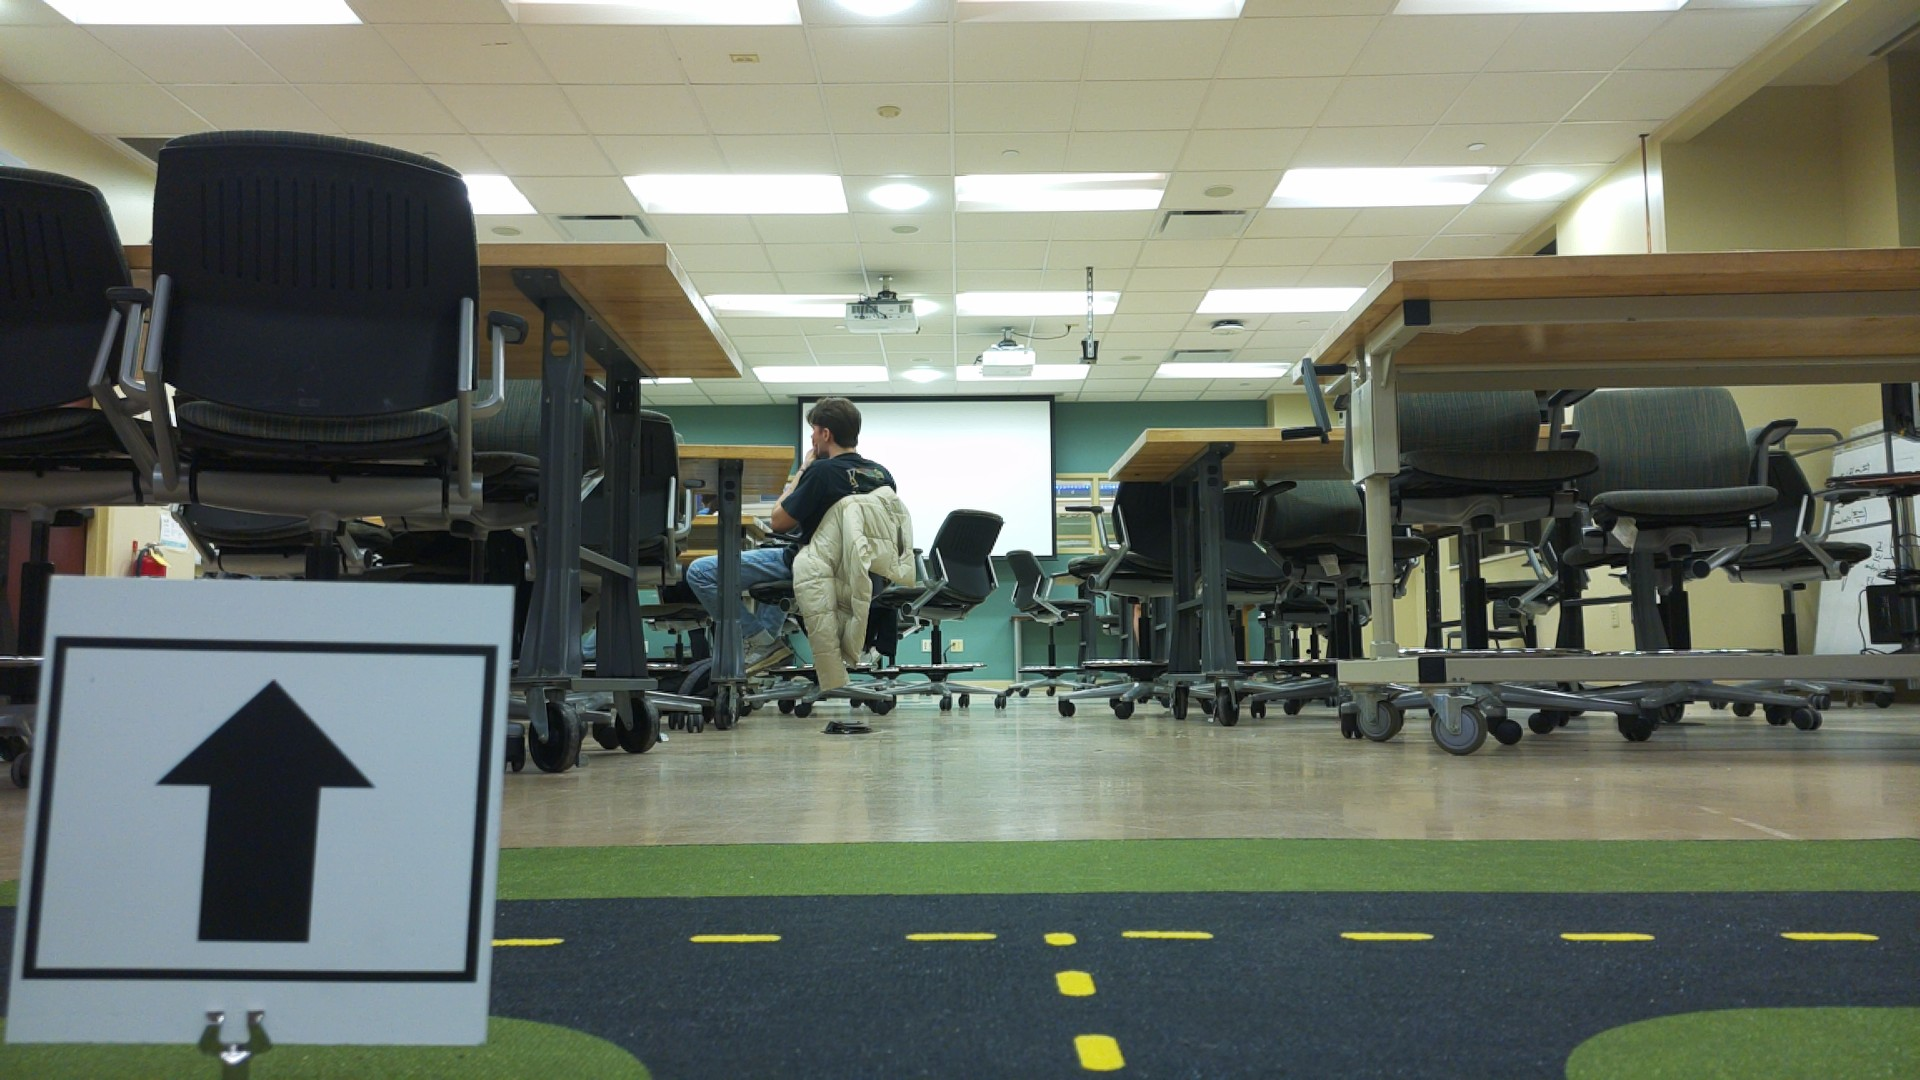gostraight: (47, 582, 484, 1040)
